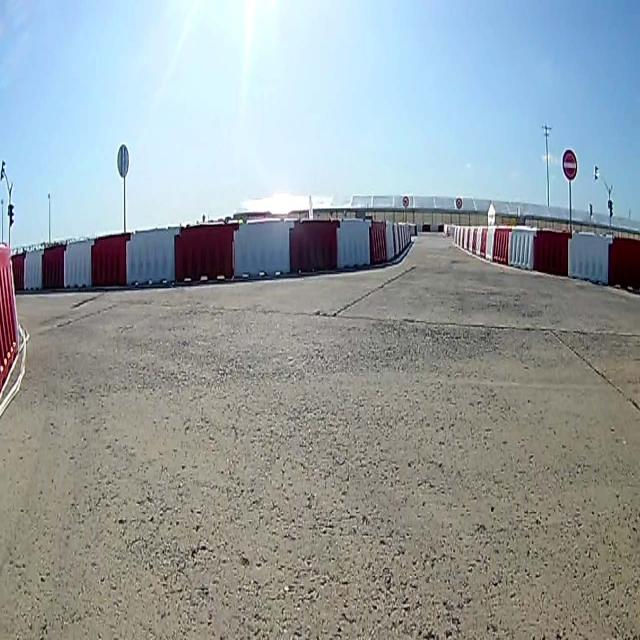girisyok: (562, 145, 580, 184)
